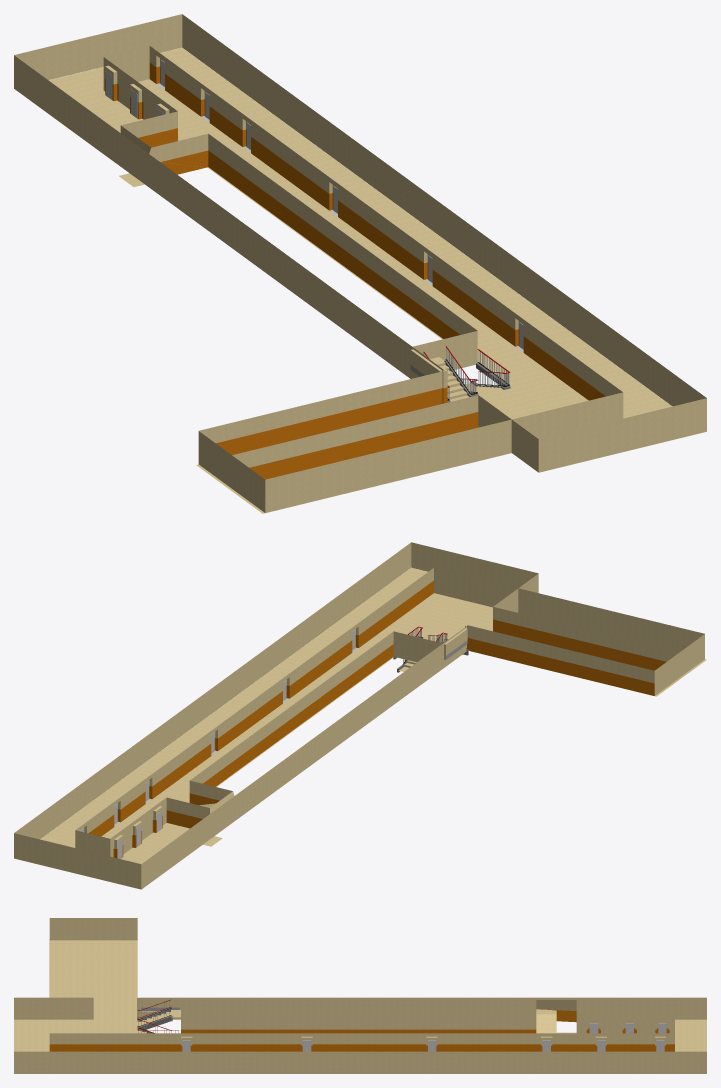
The model's file is pietro1.obj.
3 renders of one model, top to bottom at view 1: azimuth 30°, elevation 25°; view 2: azimuth 150°, elevation 25°; view 3: azimuth 270°, elevation 25°, orthographic. The views are drawn at different scales.
Visible parts, largest first — view 1: pietro.007_Cube.016; view 2: pietro.007_Cube.016; view 3: pietro.007_Cube.016.
Boxes of the visible parts, left/top/right/bottom form: pietro.007_Cube.016: left=14, top=14, right=706, bottom=513; pietro.007_Cube.016: left=14, top=542, right=706, bottom=889; pietro.007_Cube.016: left=14, top=918, right=706, bottom=1073.
Size of the model in its own units: 39.19 by 4.84 by 85.35.
